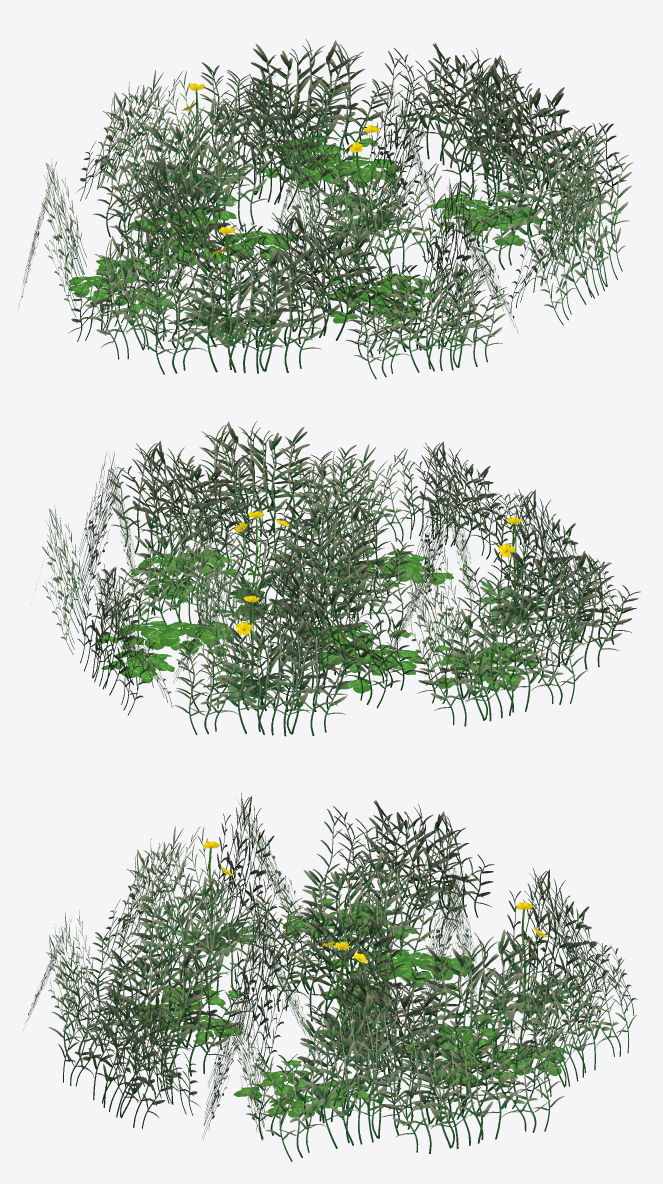
Rendered from LeafyButterGrass_Patch.fbx.
3 views of the same model, one above another, from view 1: azimuth 30°, elevation 25°; view 2: azimuth 150°, elevation 25°; view 3: azimuth 270°, elevation 25° (orthographic). The views are drawn at different scales.
Parts seen in each view (by area): view 1: LeafyButterGrassPatch; view 2: LeafyButterGrassPatch; view 3: LeafyButterGrassPatch.
Boxes of the visible parts, bbox=[...] form: LeafyButterGrassPatch: bbox=[19, 38, 633, 379]; LeafyButterGrassPatch: bbox=[35, 421, 640, 736]; LeafyButterGrassPatch: bbox=[25, 792, 637, 1161].
Size of the model in its own units: 216 by 200 by 48.52.
